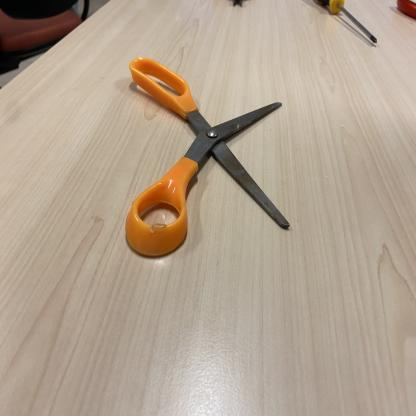scissors: (121, 59, 290, 259)
